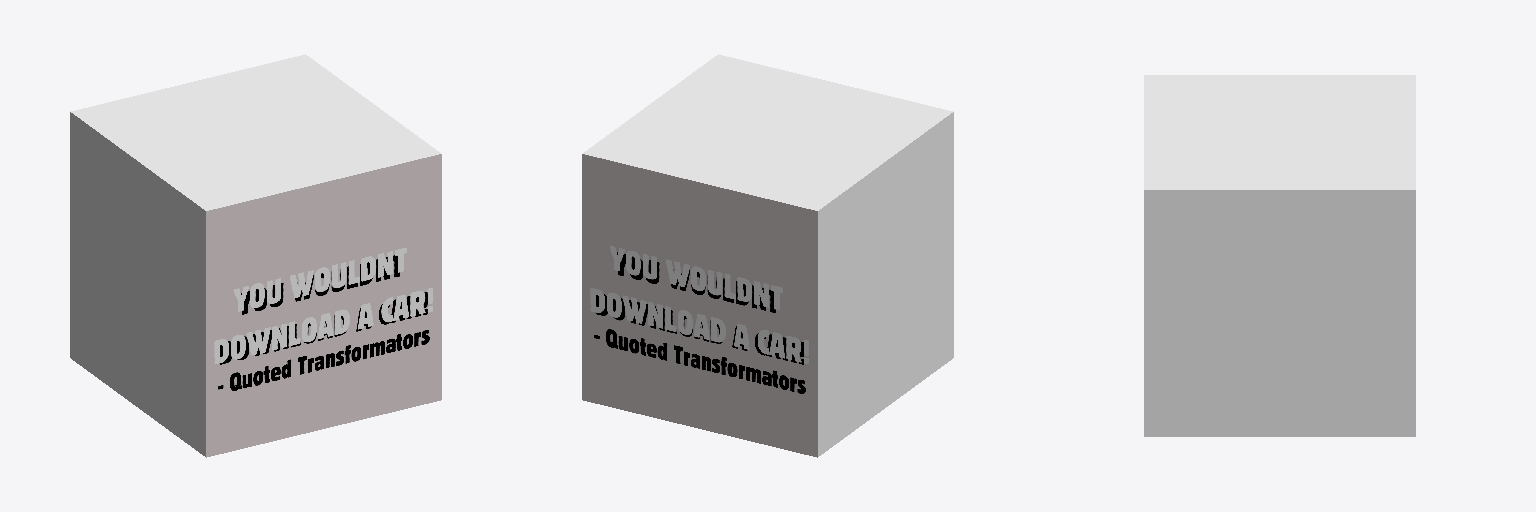
The picture shows the model from 3 angles: view 1: azimuth 30°, elevation 25°; view 2: azimuth 150°, elevation 25°; view 3: azimuth 270°, elevation 25°; orthographic projection.
Visible parts, largest first — view 1: Billboard (1); view 2: Billboard (1); view 3: Billboard (1).
Boxes of the visible parts, <box> form: Billboard (1): <box>70,54,441,457</box>; Billboard (1): <box>582,54,953,457</box>; Billboard (1): <box>1144,75,1415,436</box>.
Size of the model in its own units: 1 by 1 by 1.
2 materials, 1 textured.